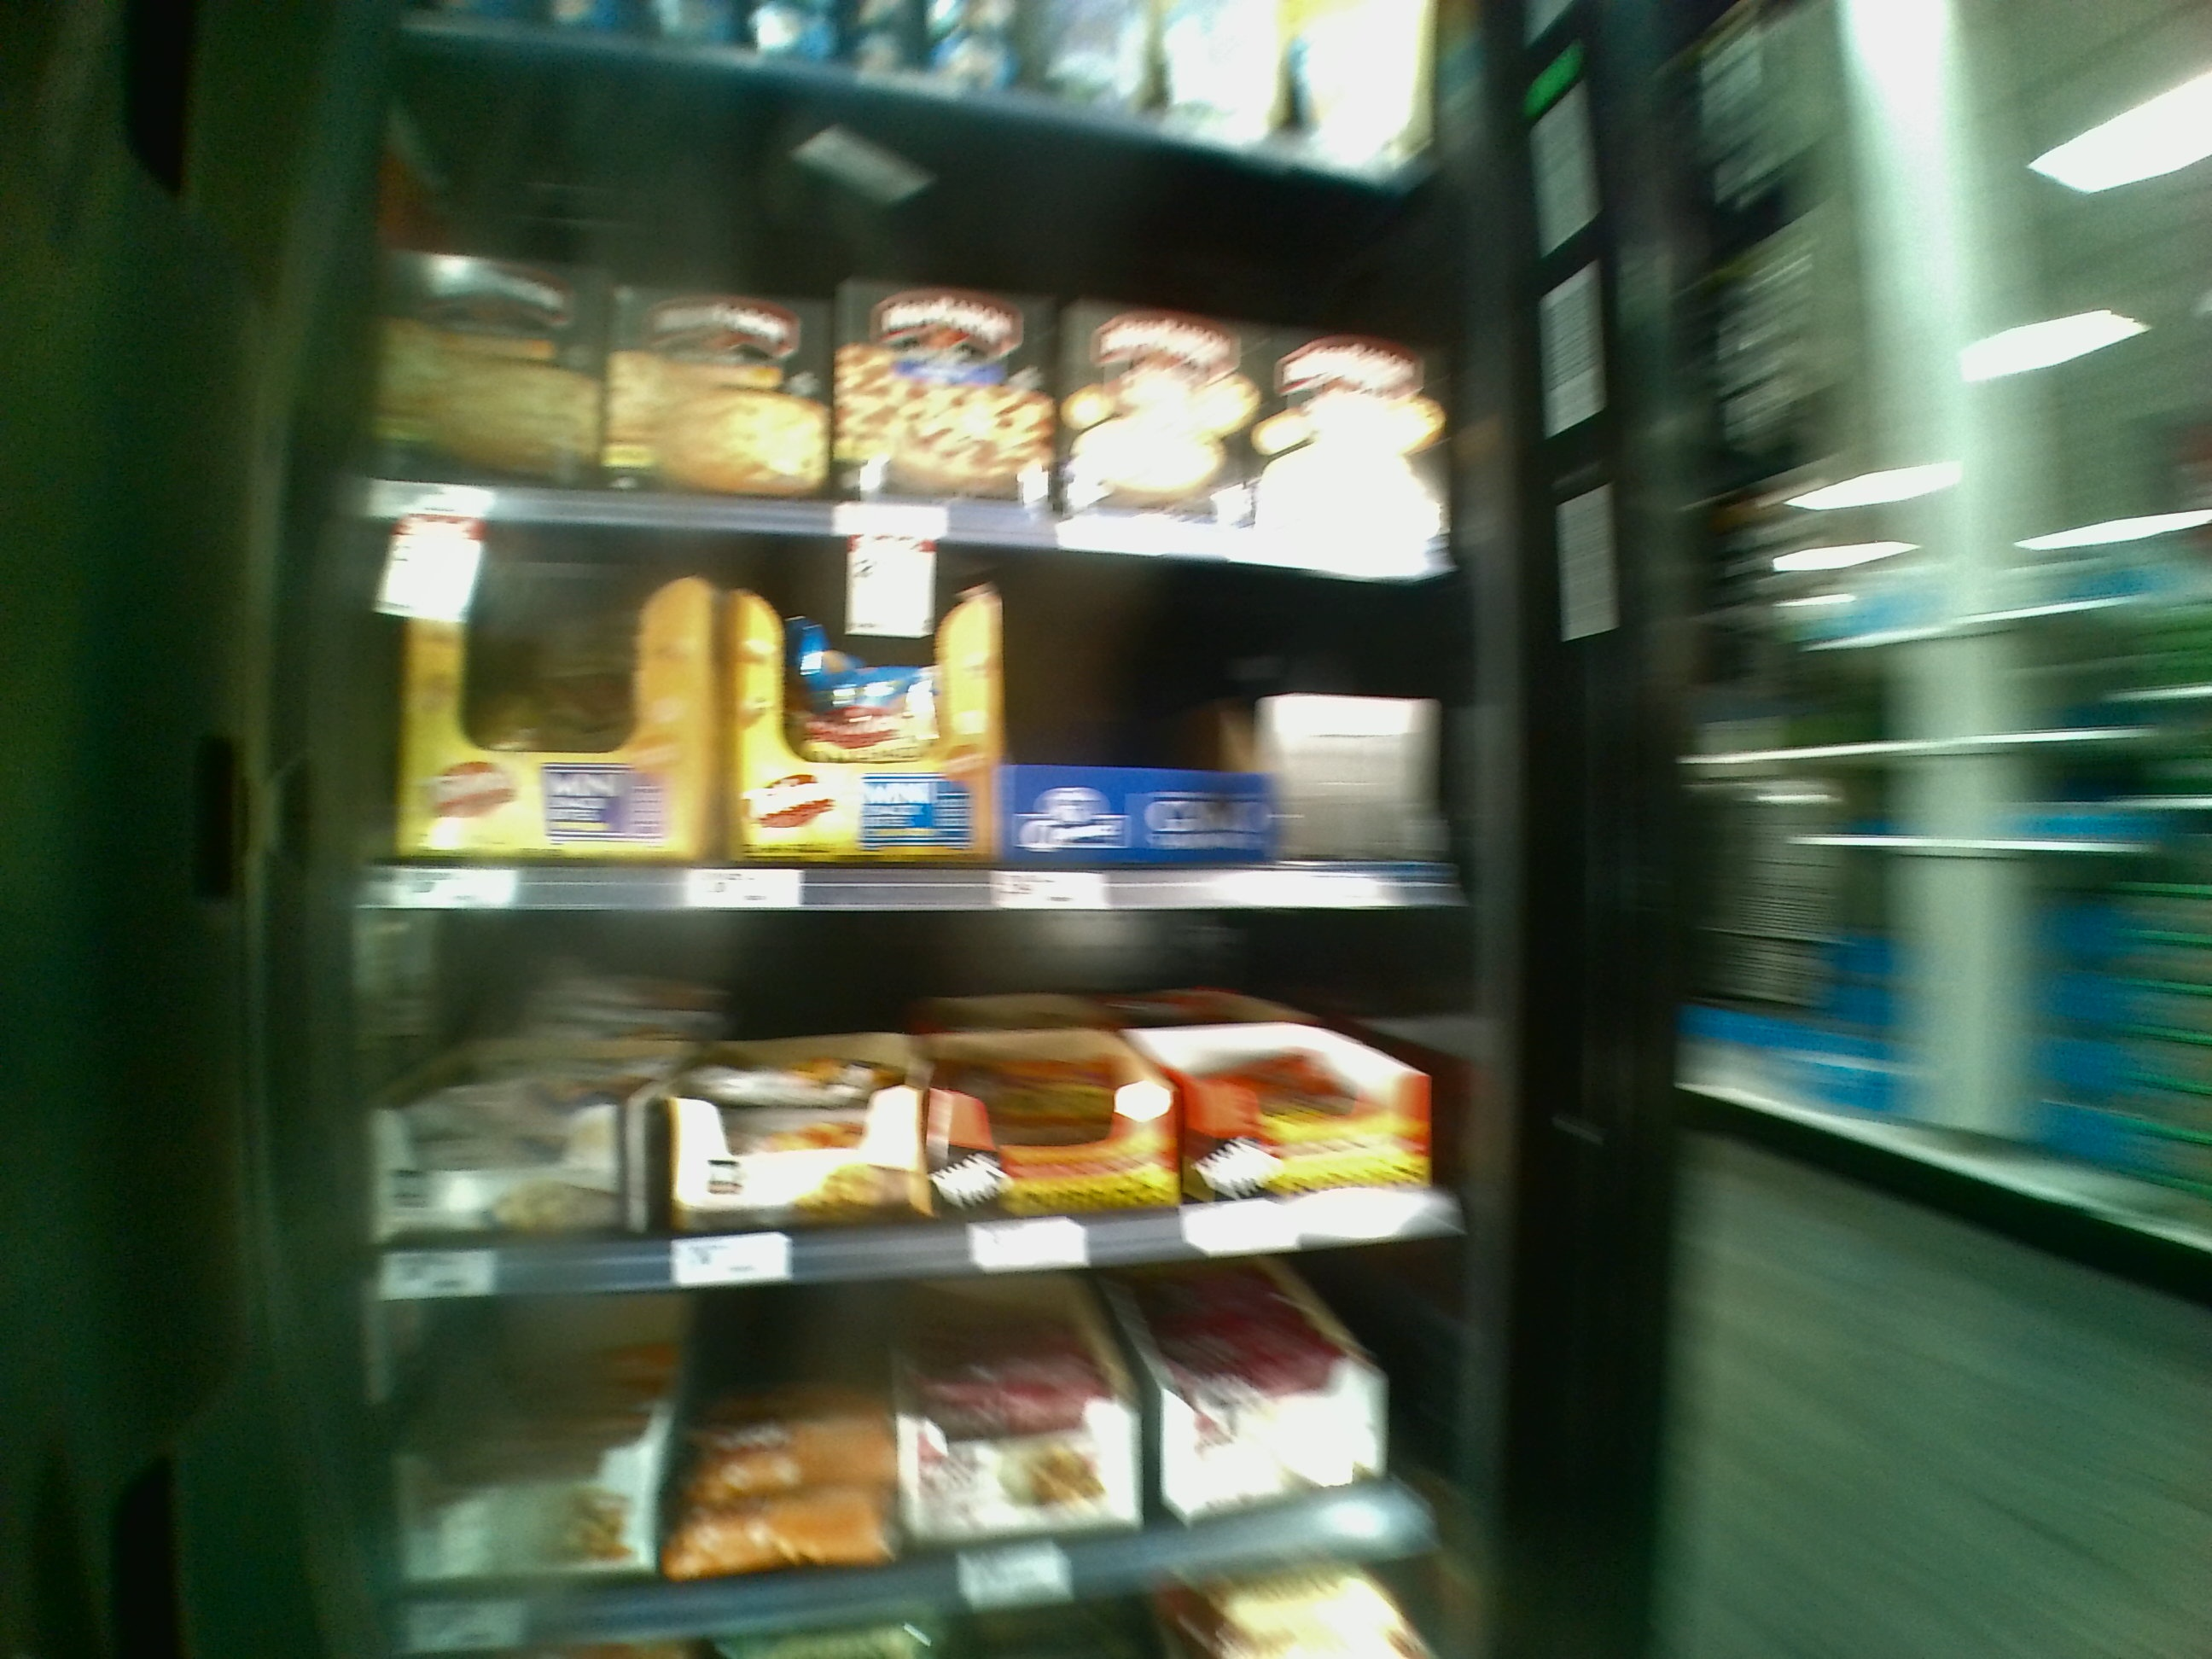shelf: (355, 118, 1463, 530), (359, 521, 1467, 913), (357, 911, 1465, 1274), (399, 1279, 1453, 1622)
